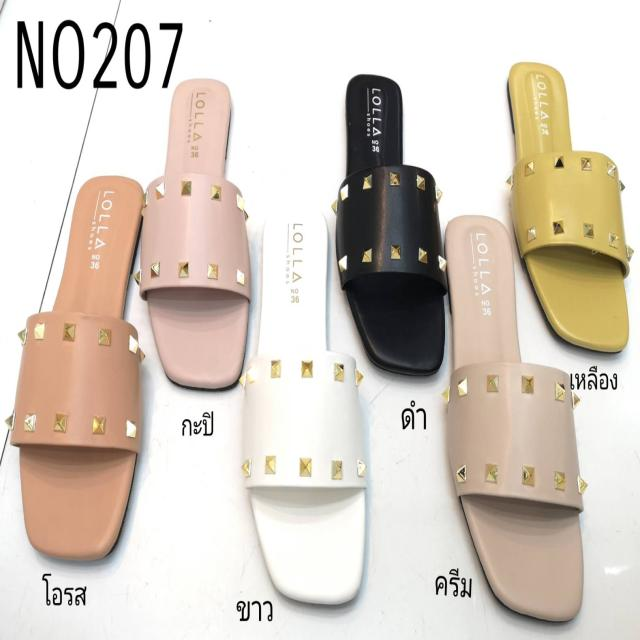black: (336, 73, 443, 368)
cream: (444, 216, 585, 623)
kapi: (143, 75, 253, 392)
orot: (19, 173, 148, 560)
white: (245, 215, 368, 607)
yellow: (496, 68, 628, 360)
